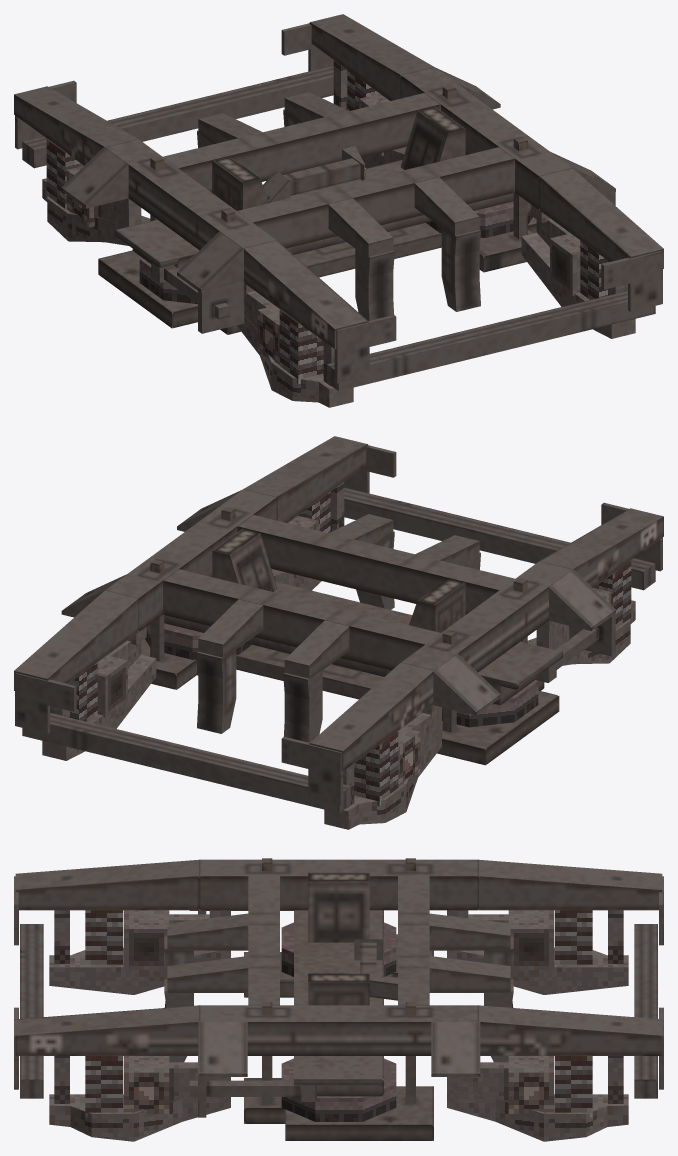
The model's file is bogey_cw2_temple.obj.
3 views of the same model, one above another, from view 1: azimuth 30°, elevation 25°; view 2: azimuth 150°, elevation 25°; view 3: azimuth 270°, elevation 25° (orthographic).
Parts seen in each view (by area): view 1: cube, 轴距定位, 牵引架, 刹车支架, 刹车夹, primary_spring, 旁承, 摇枕, 空气弹簧定位, 空气弹簧, 牵引架2, 牵引拉杆; view 2: cube, 轴距定位, 刹车支架, 牵引架, 刹车夹, 摇枕, primary_spring, 旁承, 空气弹簧, 空气弹簧定位, 牵引拉杆, 牵引架2; view 3: cube, 轴距定位, 刹车支架, primary_spring, 摇枕, 牵引架, 旁承, 空气弹簧, 刹车夹, 牵引拉杆, 牵引架2.
Boxes of the visible parts, x1,y1,x2,y2 form: cube: [15, 23, 662, 407]; 轴距定位: [14, 14, 663, 348]; 牵引架: [61, 67, 615, 293]; 刹车支架: [198, 92, 479, 257]; 刹车夹: [197, 109, 480, 320]; primary_spring: [46, 70, 607, 384]; 旁承: [212, 106, 465, 210]; 摇枕: [115, 160, 513, 268]; 空气弹簧定位: [294, 223, 441, 277]; 空气弹簧: [139, 201, 532, 303]; 牵引架2: [198, 191, 615, 333]; 牵引拉杆: [151, 262, 229, 319]; cube: [15, 445, 662, 829]; 轴距定位: [14, 436, 663, 770]; 刹车支架: [198, 514, 479, 679]; 牵引架: [61, 490, 615, 715]; 刹车夹: [197, 531, 480, 742]; 摇枕: [164, 582, 562, 705]; primary_spring: [70, 492, 631, 806]; 旁承: [212, 528, 465, 632]; 空气弹簧: [145, 623, 538, 727]; 空气弹簧定位: [236, 645, 383, 699]; 牵引拉杆: [534, 627, 598, 682]; 牵引架2: [569, 614, 615, 656]; cube: [14, 858, 663, 1141]; 轴距定位: [15, 859, 662, 1055]; 刹车支架: [167, 913, 510, 992]; primary_spring: [85, 910, 592, 1117]; 摇枕: [294, 910, 383, 1096]; 牵引架: [198, 876, 480, 1076]; 旁承: [308, 872, 369, 1005]; 空气弹簧: [281, 922, 396, 1121]; 刹车夹: [164, 936, 513, 1062]; 牵引拉杆: [189, 910, 316, 1101]; 牵引架2: [198, 910, 206, 1117].
Bounding box in the file's own units: 2.94 × 0.8813 × 3.96.
